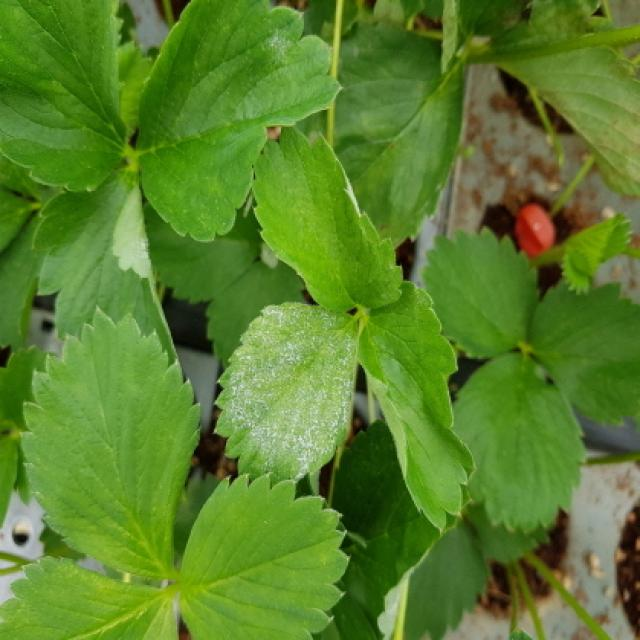Powdery Mildew Leaf: (136, 0, 341, 244), (30, 163, 178, 368), (249, 125, 403, 311), (214, 300, 360, 489)
